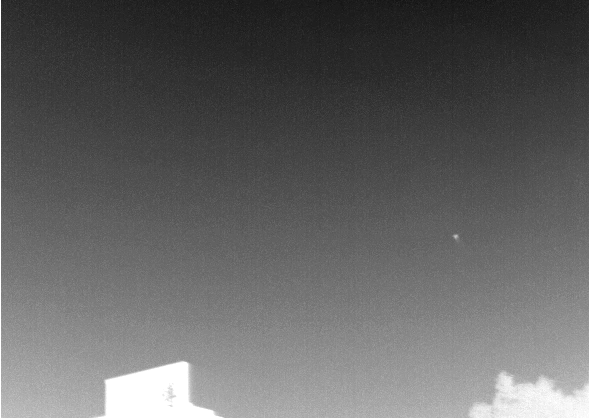dim target: (452, 233, 459, 241)
